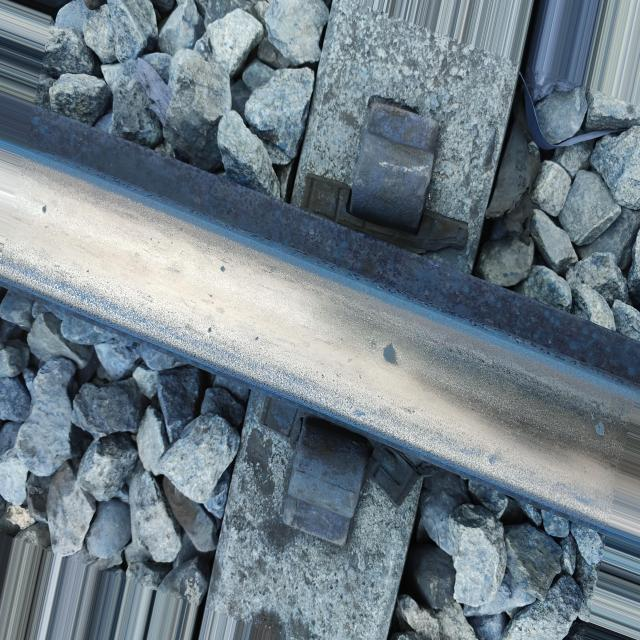Missing Fastener: (291, 0, 509, 272), (209, 390, 422, 639)
